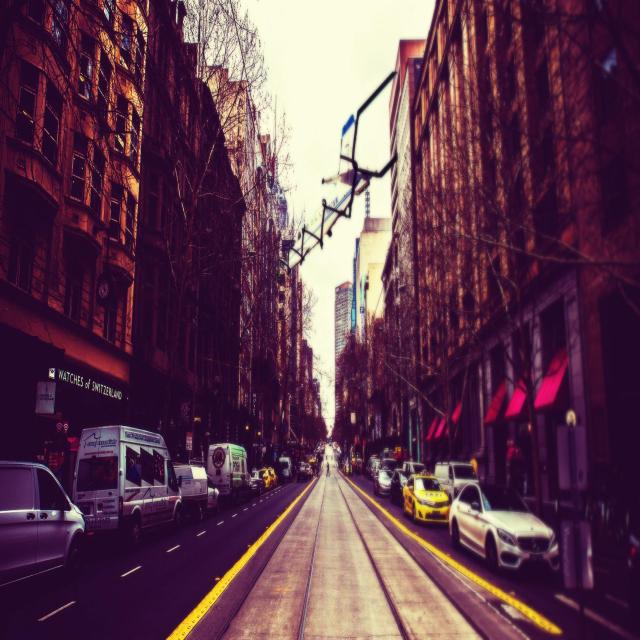airplane: (280, 69, 399, 275)
